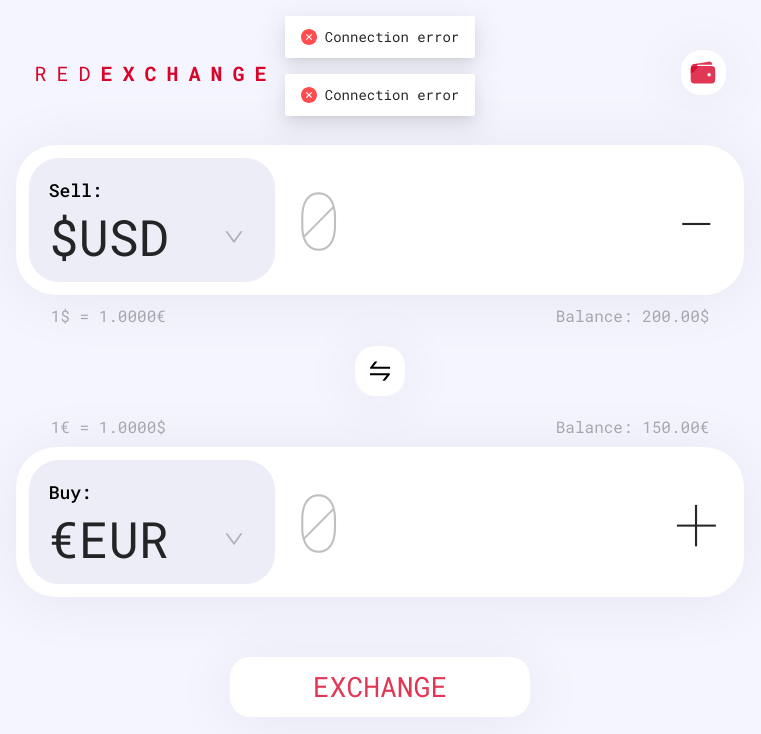
Test: currencies swap
Expected: the element with test id "select-currency-sell" reads "$USD", x1=49 y1=204 x2=169 y2=270
Expected: the element with test id "select-currency-buy" reads "€EUR", x1=49 y1=506 x2=169 y2=572
Click the button with test id "swap-button": {"x": 380, "y": 371} x1=355 y1=346 x2=405 y2=396
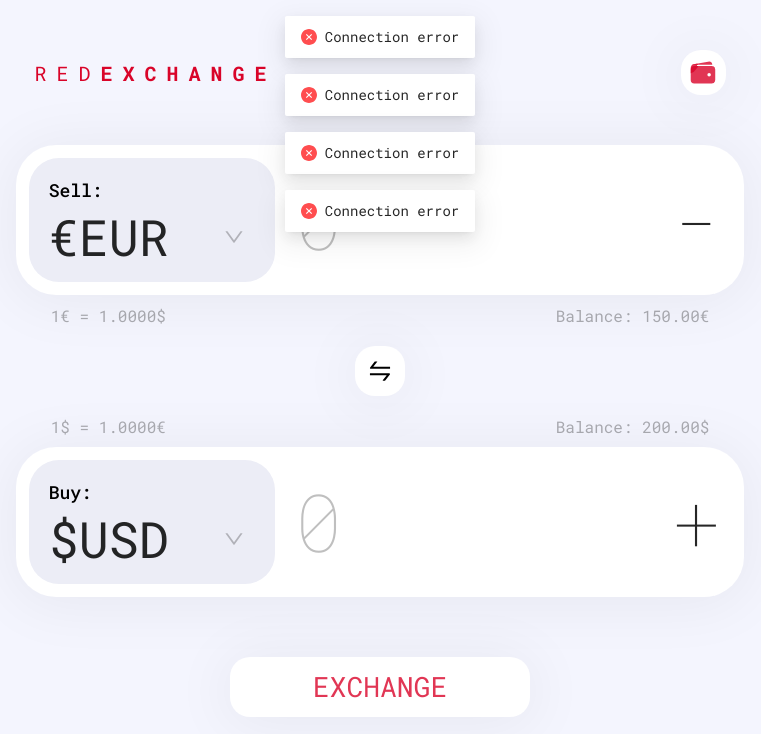
Result: the element with test id "select-currency-sell" reads "€EUR" at x1=49 y1=204 x2=169 y2=270
Result: the element with test id "select-currency-buy" reads "$USD" at x1=49 y1=506 x2=169 y2=572
